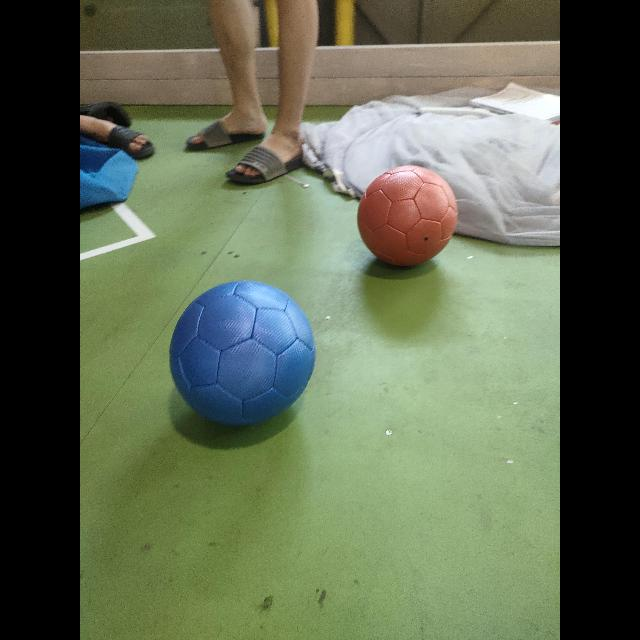B: (170, 281, 315, 425)
R: (358, 165, 458, 266)
